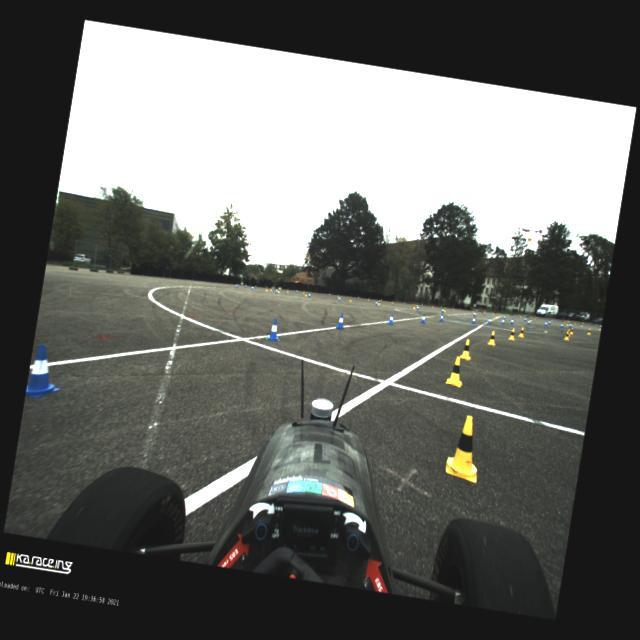blue_cone: (26, 344, 68, 402), (267, 318, 283, 342), (336, 313, 346, 329), (387, 313, 395, 325), (421, 314, 426, 324), (500, 318, 506, 326), (471, 316, 476, 324), (487, 317, 492, 325), (440, 314, 444, 322), (526, 319, 531, 325), (510, 318, 514, 324), (374, 300, 378, 306), (560, 323, 564, 328), (544, 321, 548, 326), (570, 323, 574, 328), (237, 282, 240, 288), (275, 288, 278, 294), (308, 292, 311, 298), (569, 322, 572, 328), (548, 320, 551, 325), (235, 283, 238, 288), (416, 305, 419, 310), (503, 315, 506, 320), (244, 284, 247, 288), (251, 286, 254, 290), (524, 316, 526, 322), (338, 296, 340, 301), (442, 308, 444, 312), (254, 286, 256, 288), (296, 290, 298, 292)
yellow_cone: (444, 414, 486, 484), (444, 356, 466, 388), (458, 338, 474, 361), (488, 330, 498, 346), (508, 328, 517, 342), (518, 327, 526, 339), (564, 331, 570, 341), (586, 328, 592, 336), (566, 328, 571, 337), (570, 328, 575, 334), (304, 291, 308, 296), (265, 286, 268, 292), (270, 286, 273, 292), (302, 290, 306, 294), (598, 326, 602, 330), (349, 297, 352, 302), (413, 304, 416, 309), (443, 307, 446, 312), (495, 313, 498, 318), (286, 288, 289, 292), (278, 288, 280, 293), (378, 300, 380, 305), (530, 317, 532, 322), (368, 298, 370, 300)
